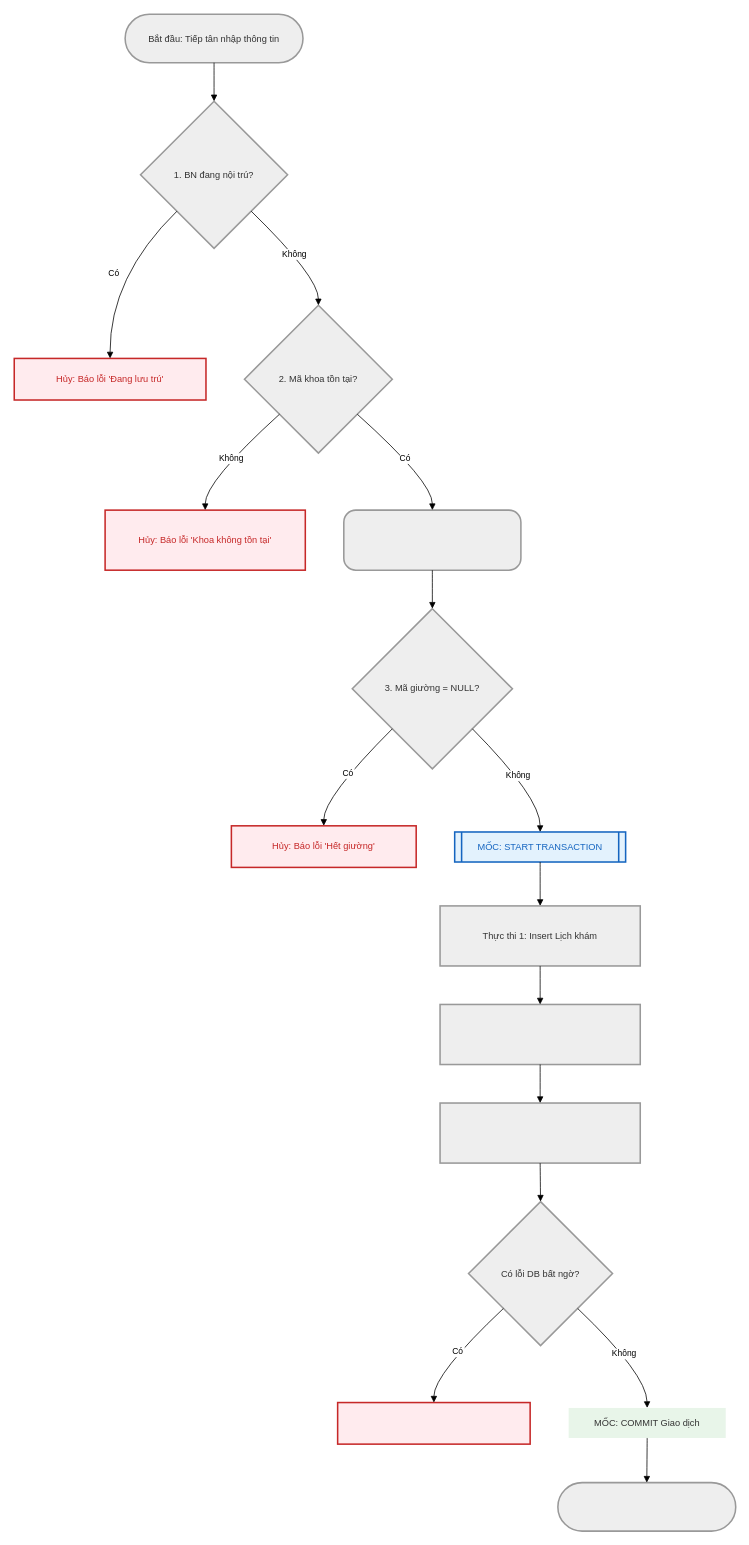
The diagram is 749 pixels wide and 1545 high, and some of its shapes have lost their labels. Here are the shapes that lost their labels. From the top down, the box of each, then its label:
(343, 509, 521, 571): Gọi Procedure Phụ: Dò giường
(439, 1003, 641, 1065): Thực thi 2: Update Giường -> Occupied
(439, 1102, 641, 1163): Thực thi 3: Insert Hồ sơ nội trú
(336, 1401, 531, 1445): MỐC: ROLLBACK Giao dịch
(557, 1481, 736, 1532): Kết thúc: Nhập viện thành công
